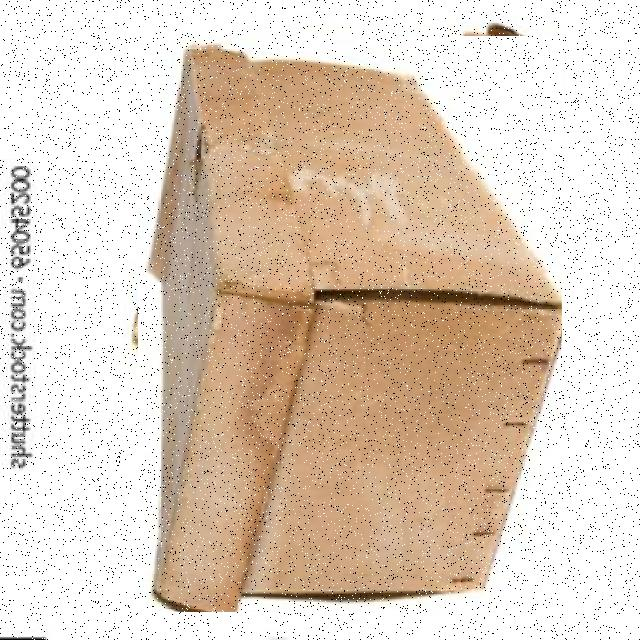defect: (138, 36, 562, 612)
